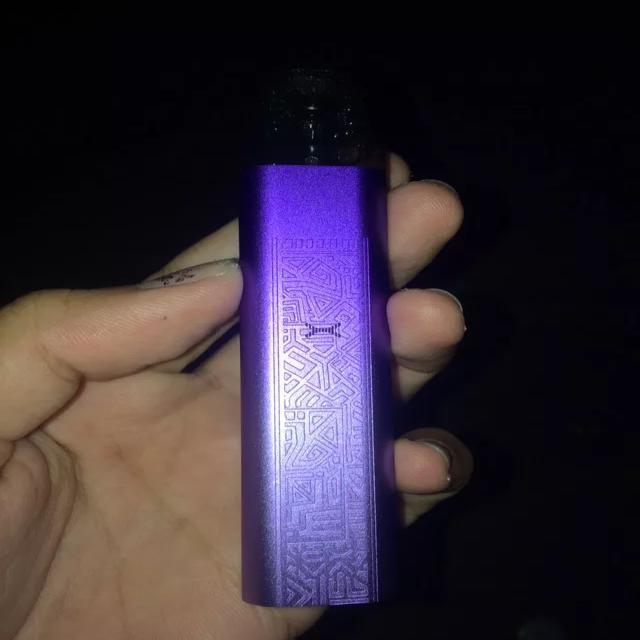Hazard: (238, 95, 404, 608)
